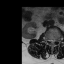CCS_normal: (51, 37, 53, 45)
LFS_stenosis: (55, 38, 57, 43)
LLS_stenosis: (53, 37, 55, 44)
RFS_normal: (47, 36, 49, 42)
RLS_normal: (49, 37, 51, 44)
